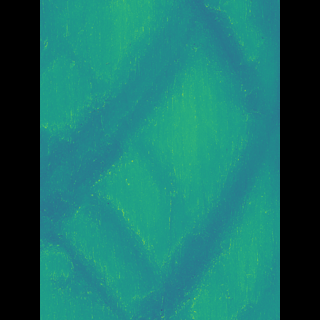Loch: (137, 136, 236, 320), (69, 100, 139, 320), (171, 0, 243, 124)
